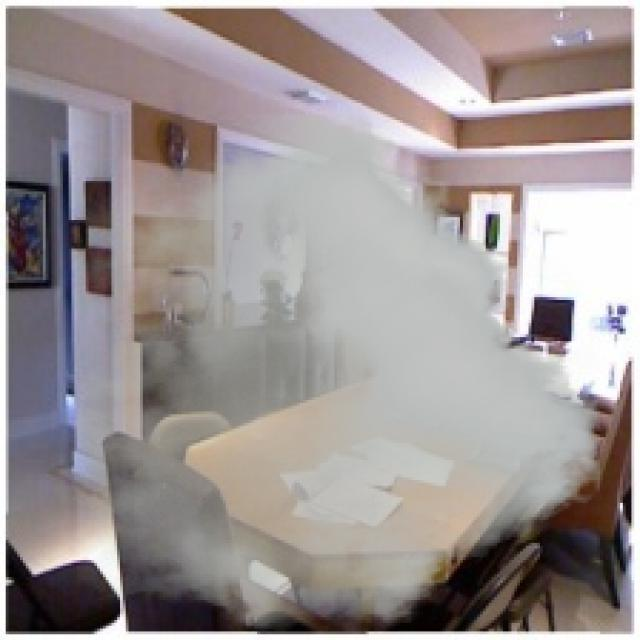Smoke: (77, 114, 600, 632)
